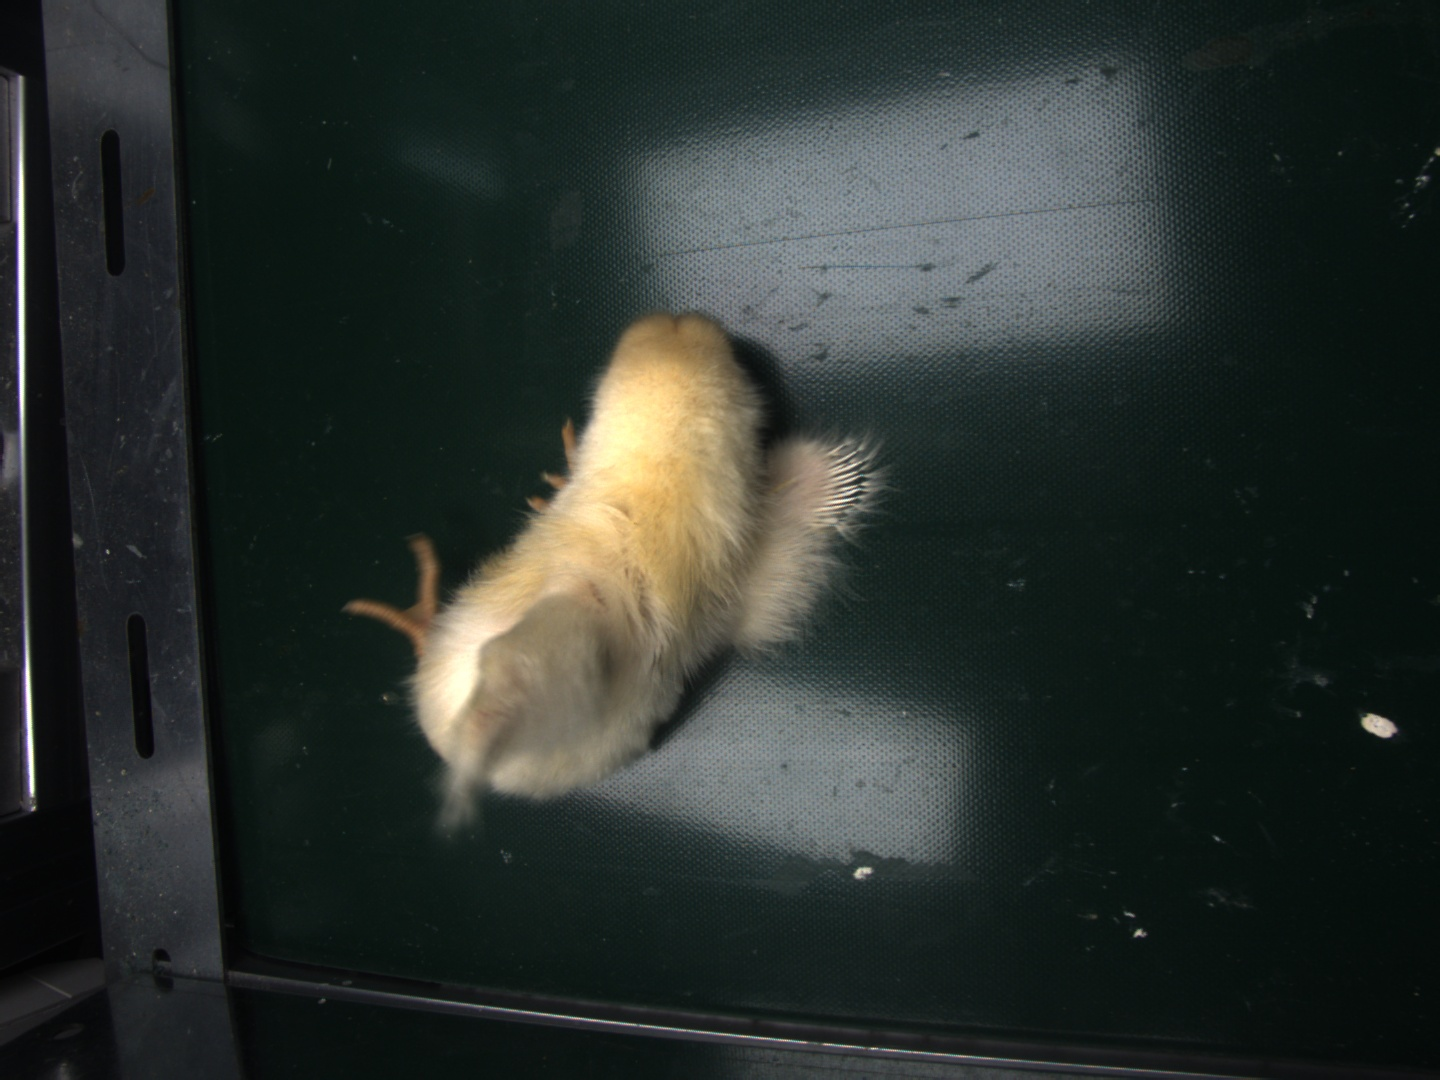male: (818, 442, 866, 523)
